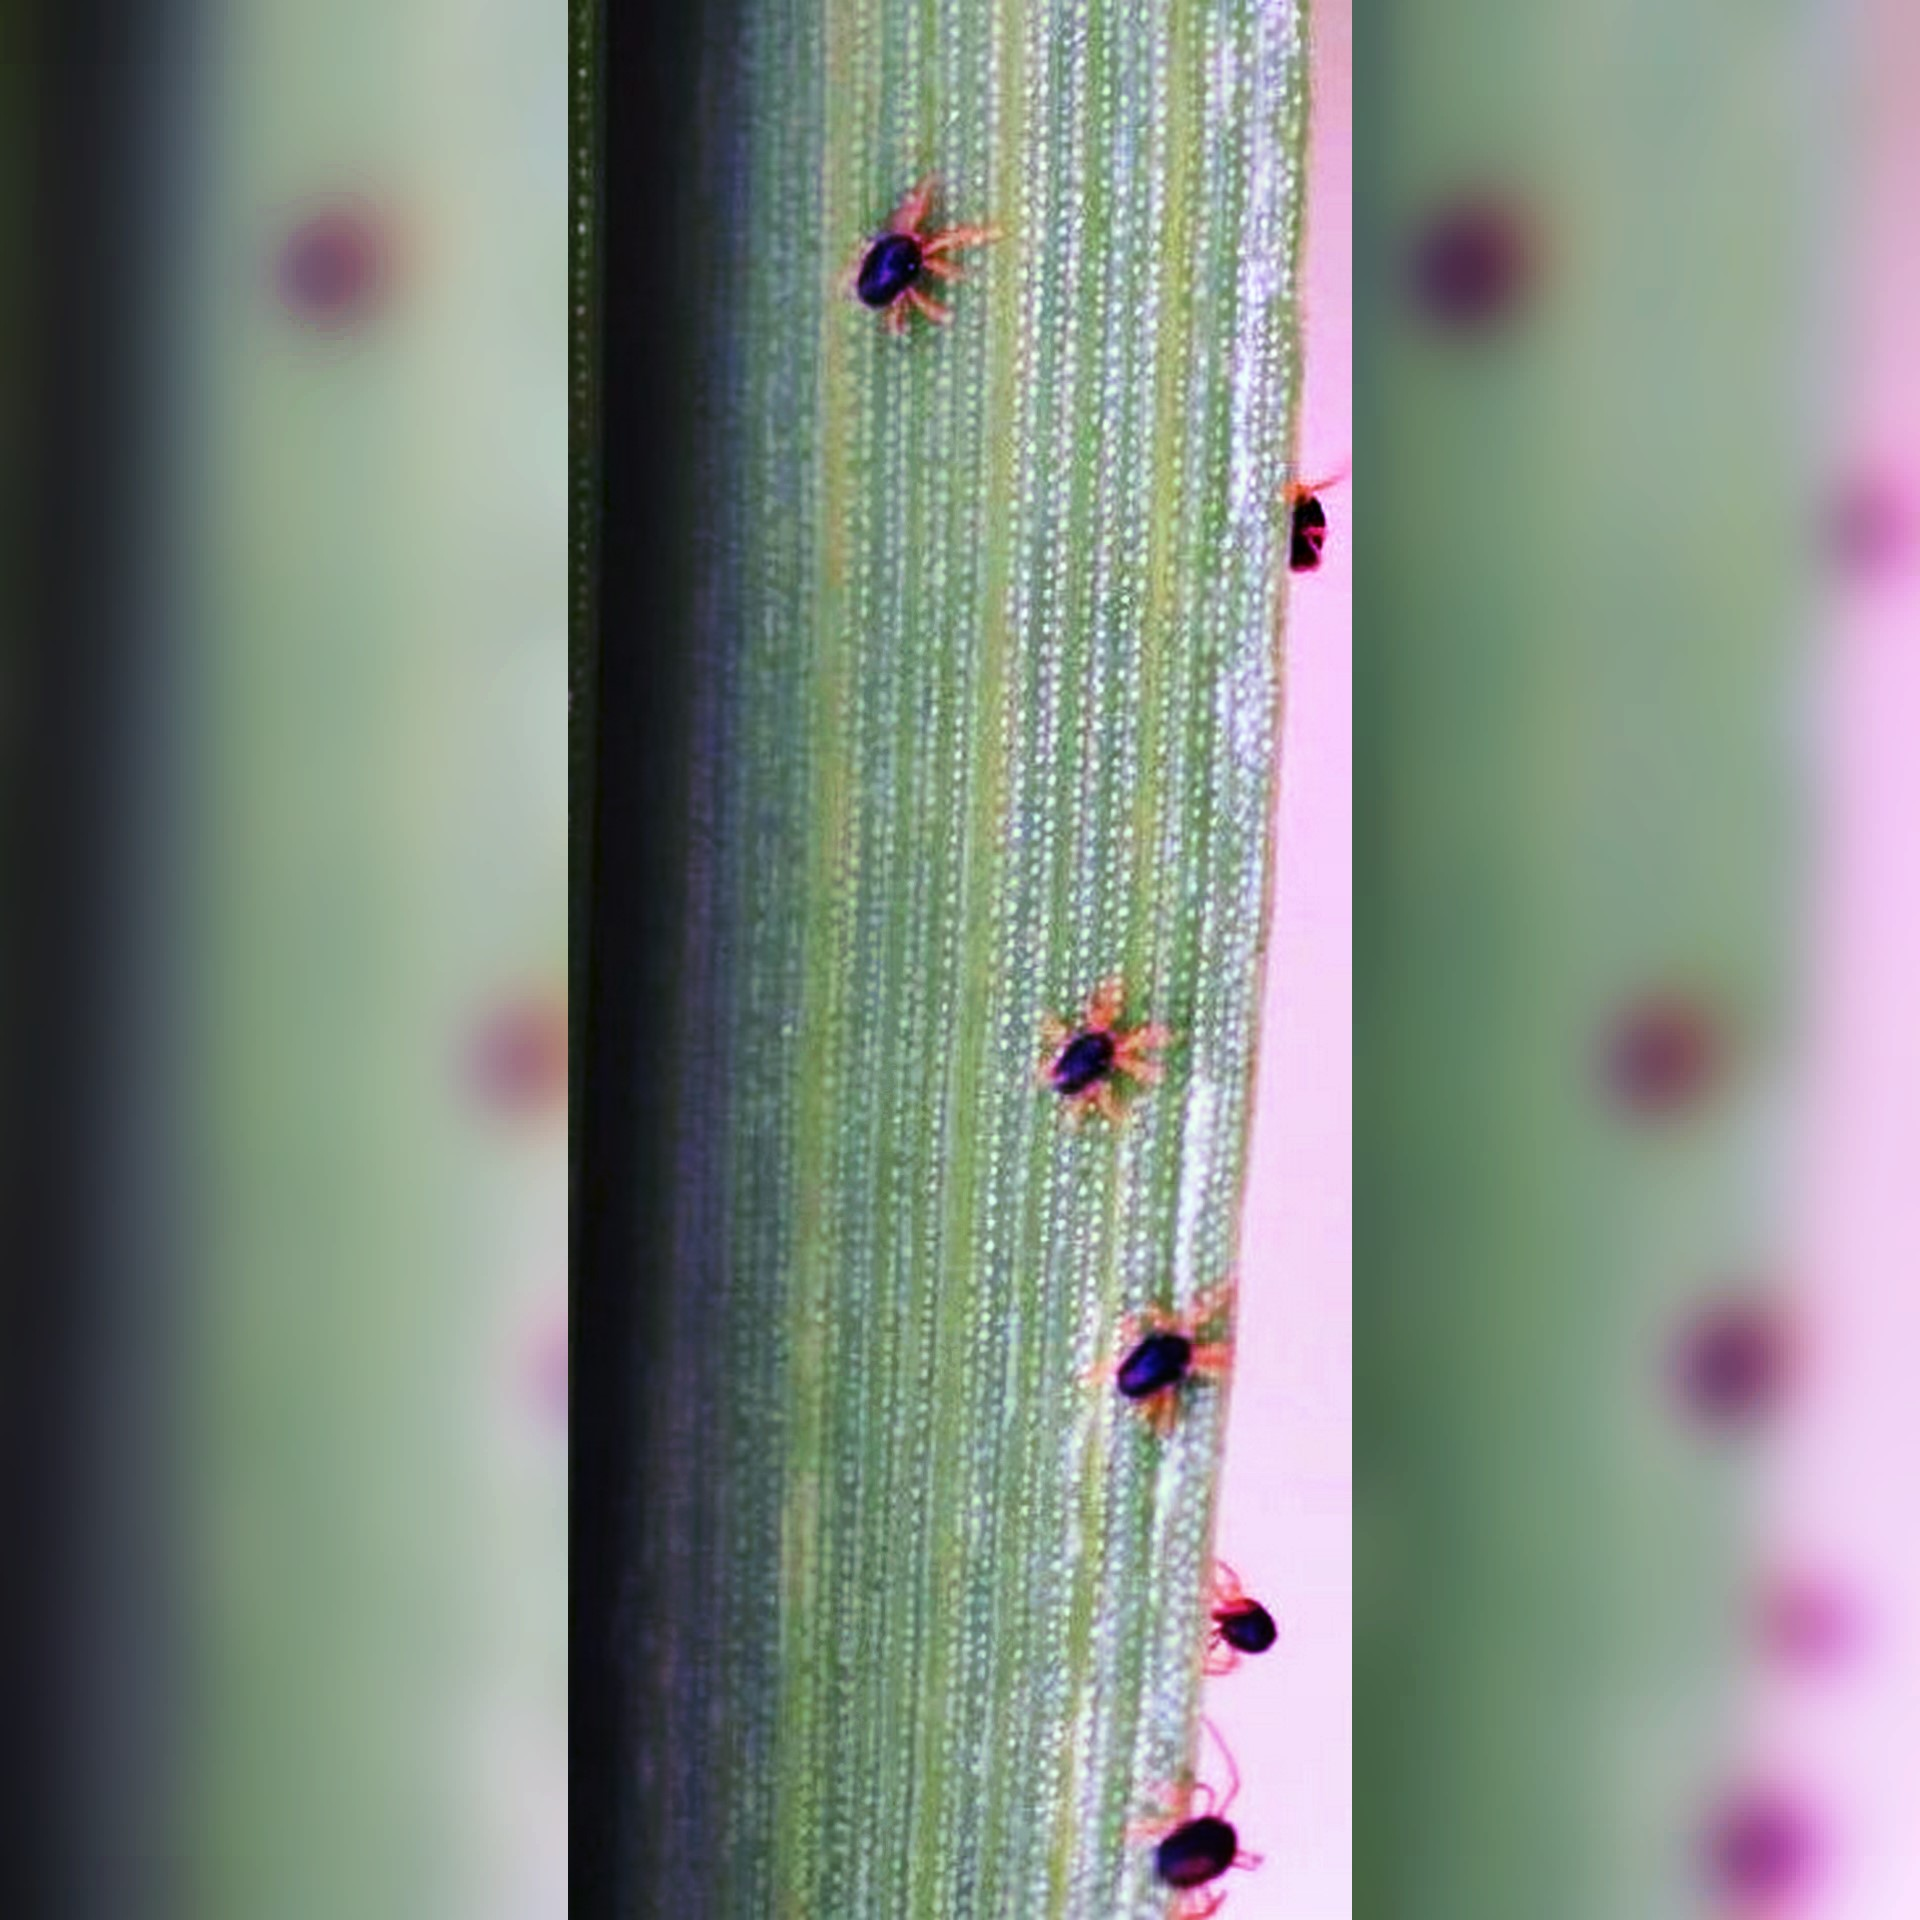Wheat Red Spider: (802, 160, 1029, 366)
